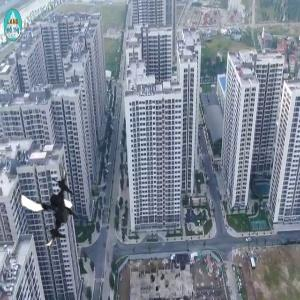drone: (15, 169, 93, 247)
